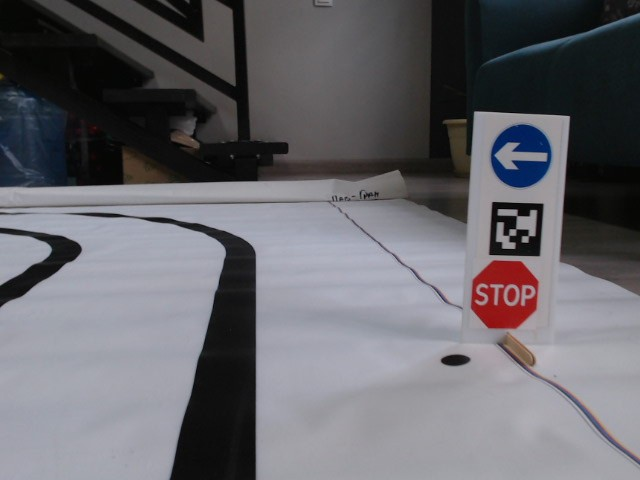Stop: (469, 258, 538, 329)
